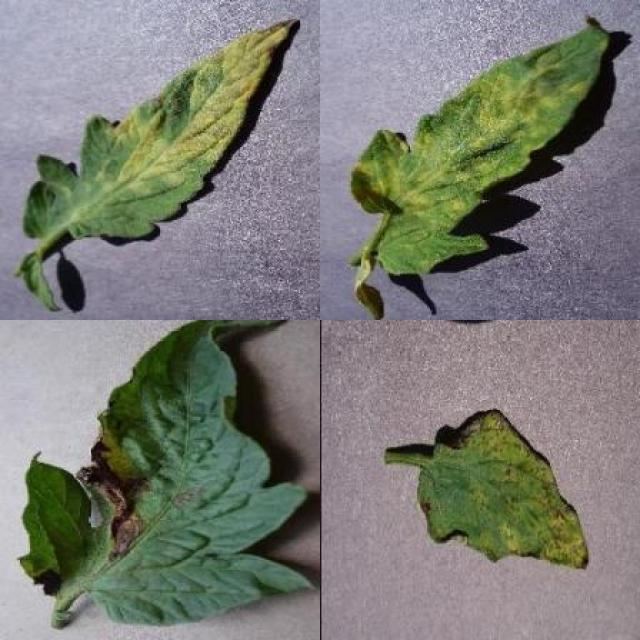Early Blight: (20, 319, 317, 626)
Leaf Mold: (353, 15, 613, 275), (23, 20, 298, 246)
Septoria: (416, 411, 590, 573)
